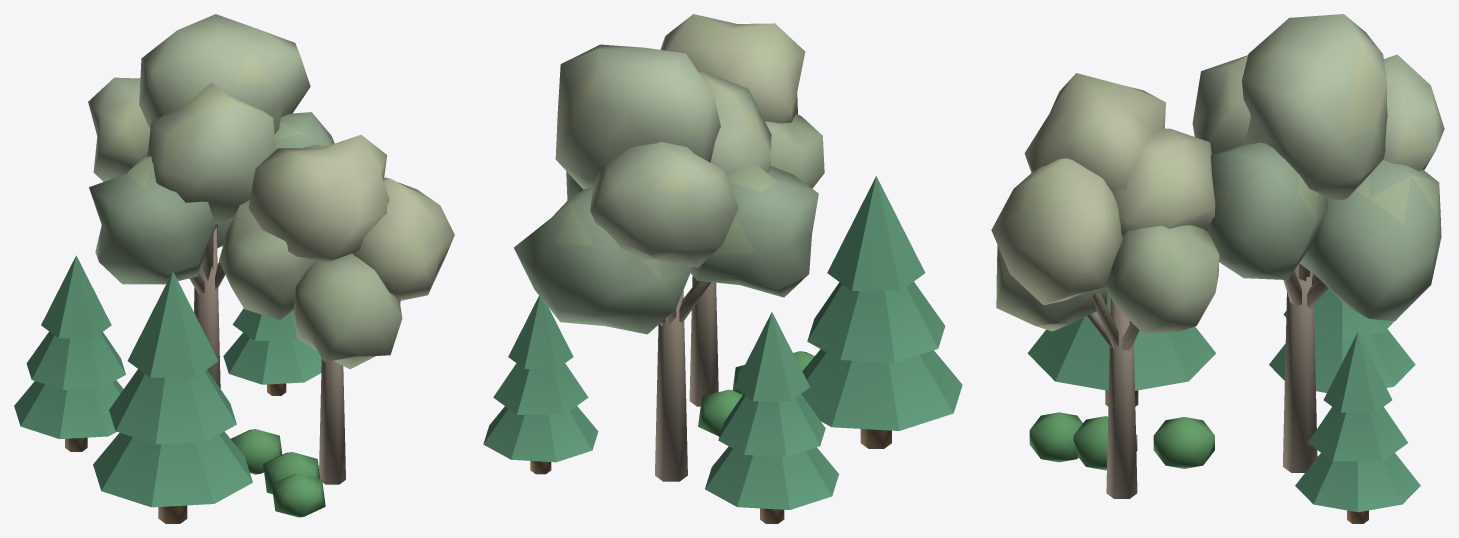
The model's file is terrain-forest-2.glb.
3 views of the same model, side by side, from view 1: azimuth 30°, elevation 25°; view 2: azimuth 150°, elevation 25°; view 3: azimuth 270°, elevation 25° (orthographic). The views are drawn at different scales.
Parts seen in each view (by area): view 1: terrain-forest-2; view 2: terrain-forest-2; view 3: terrain-forest-2.
Part boxes in pixels (x1,y1,x2,y2): terrain-forest-2: (14, 14, 454, 523); terrain-forest-2: (483, 14, 962, 523); terrain-forest-2: (991, 14, 1444, 523).
Size of the model in its own units: 0.8202 by 0.9477 by 0.8641.
